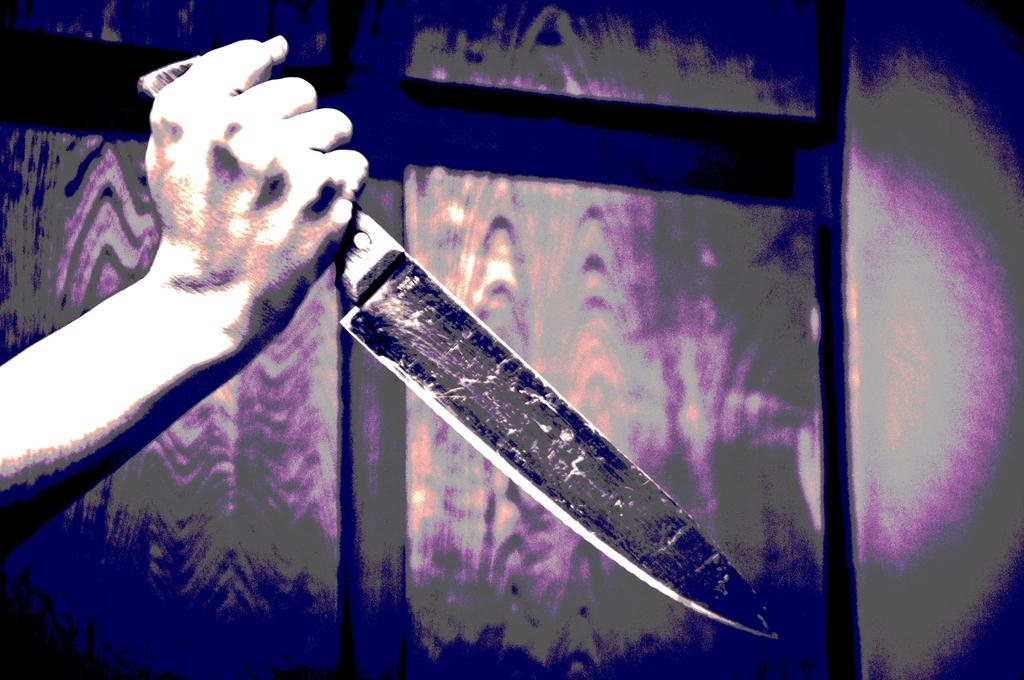Knife: (140, 54, 779, 639)
